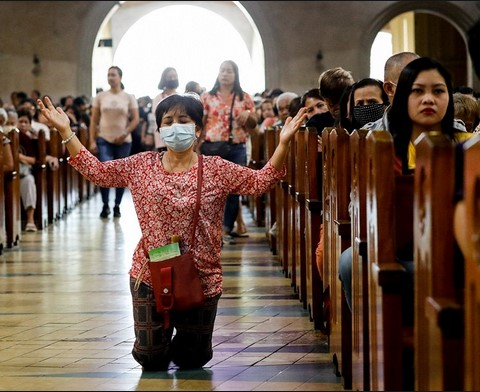face_no_mask: (405, 63, 450, 125), (218, 63, 238, 85), (15, 112, 33, 135), (108, 67, 122, 86)
face_with_mask: (157, 98, 202, 152), (349, 80, 387, 126), (304, 88, 331, 129)
